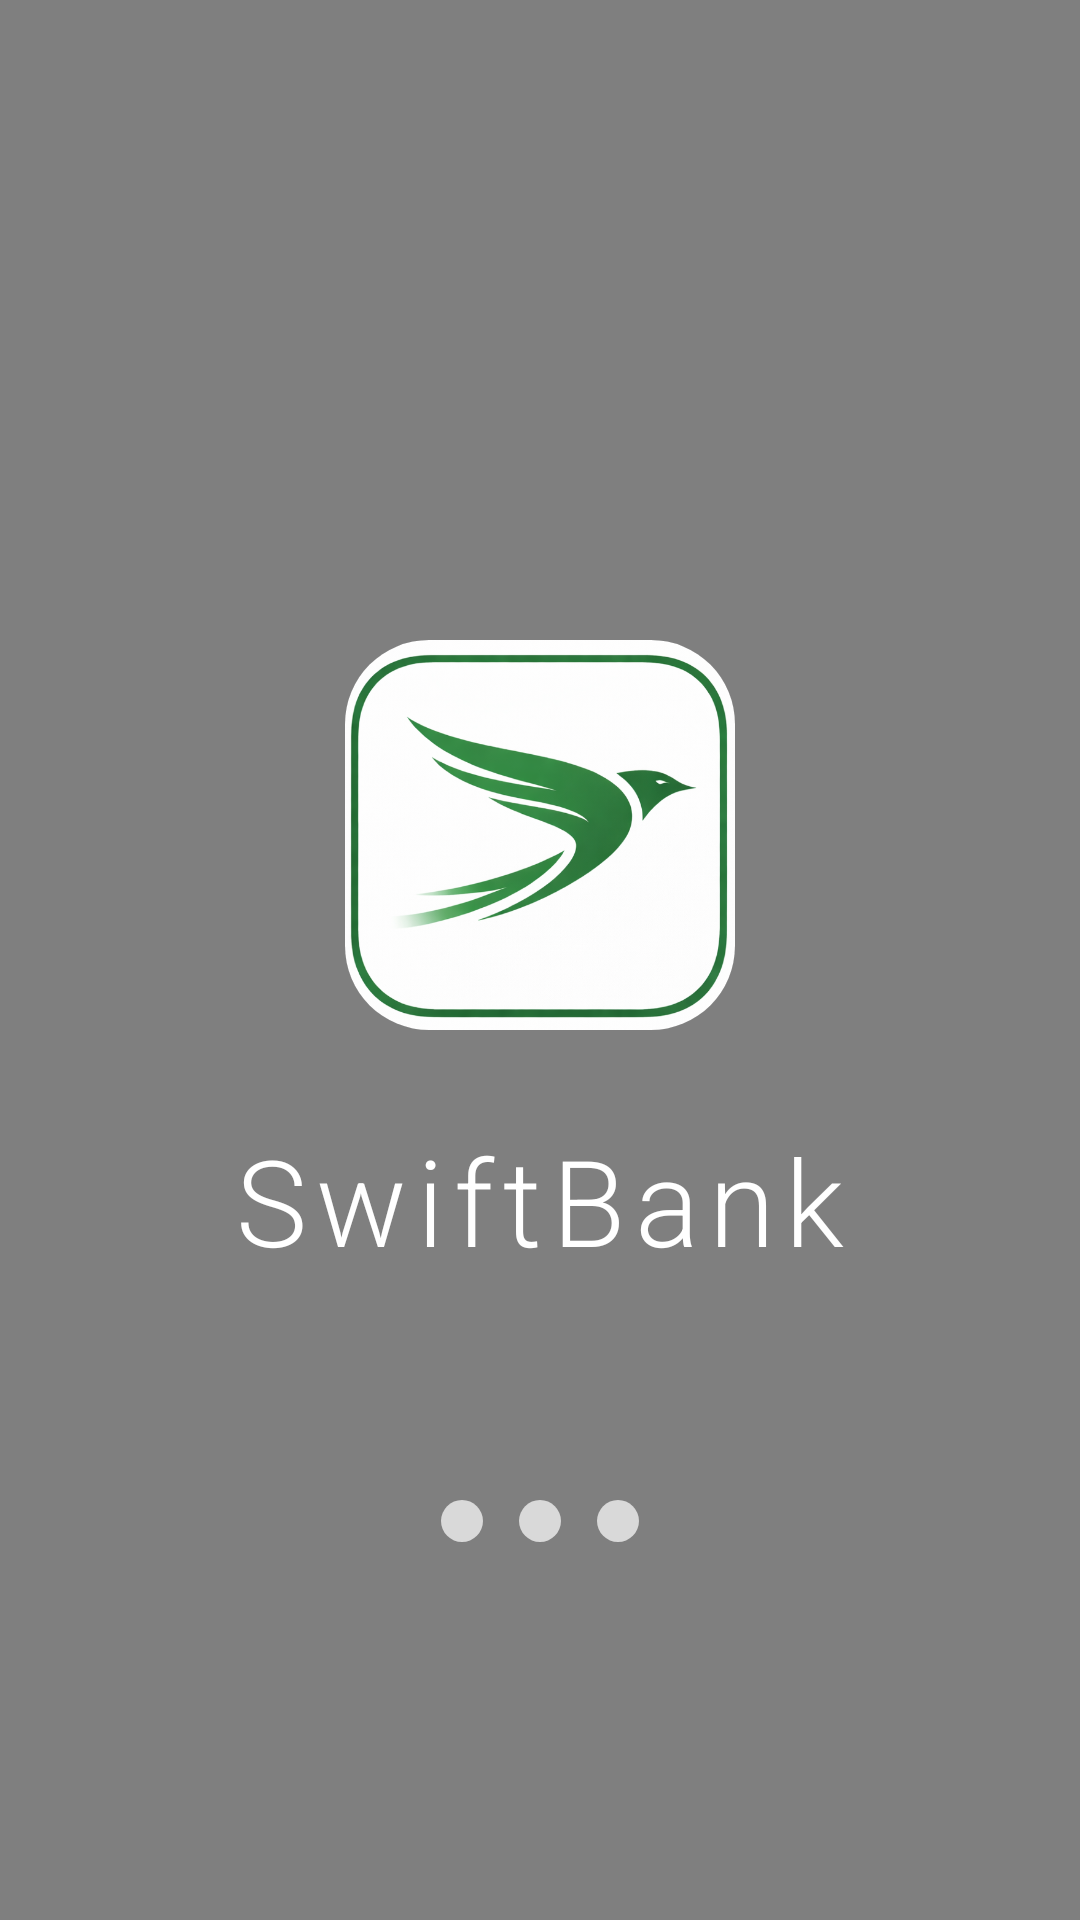

Where icons sit on this 1080*1920 app screen, as (x1=x1, y1=y1, x2=x2, y2=y2):
loading dot: (x1=441, y1=1500, x2=483, y2=1542), (x1=519, y1=1500, x2=561, y2=1542), (x1=597, y1=1500, x2=639, y2=1542)
